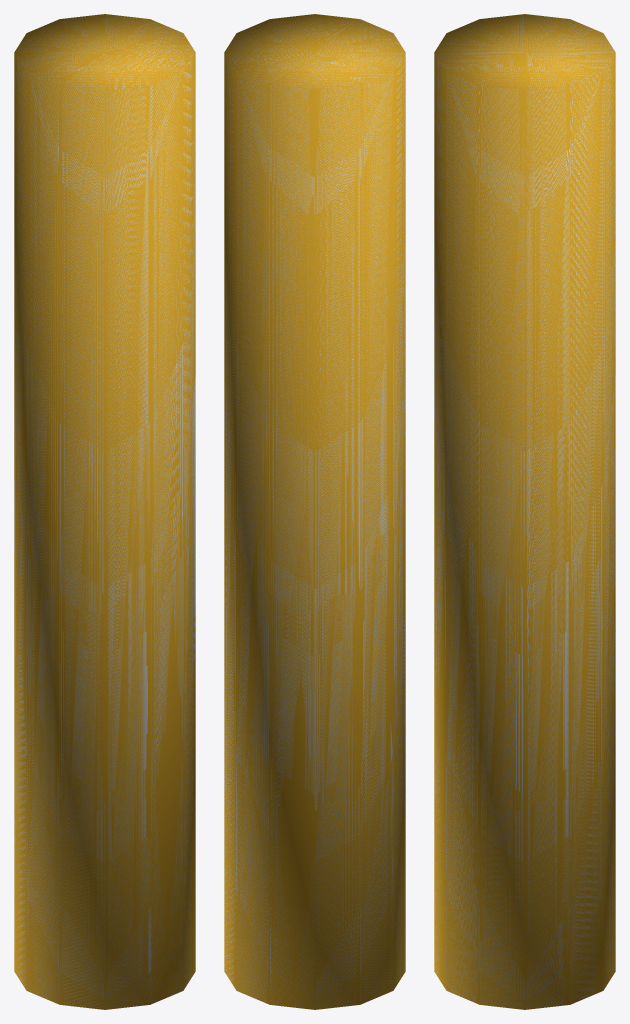
Rendered from original-28.obj.
3 renders of one model, left to right at view 1: azimuth 30°, elevation 25°; view 2: azimuth 150°, elevation 25°; view 3: azimuth 270°, elevation 25°, orthographic.
Parts seen in each view (by area): view 1: mesh25/mesh25-geometry#mesh25-geometry; view 2: mesh25/mesh25-geometry#mesh25-geometry; view 3: mesh25/mesh25-geometry#mesh25-geometry.
Part boxes in pixels (box(x1,y1,x2,y2)): mesh25/mesh25-geometry#mesh25-geometry: box(14, 14, 195, 1009); mesh25/mesh25-geometry#mesh25-geometry: box(224, 14, 405, 1009); mesh25/mesh25-geometry#mesh25-geometry: box(434, 14, 615, 1009).
Bounding box in the file's own units: 0.0236 × 0.1323 × 0.0236.
